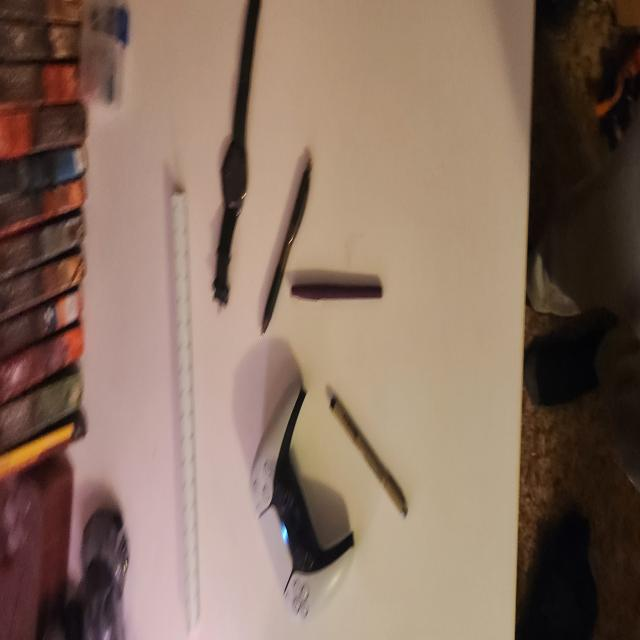Controller: (269, 386, 352, 578)
Pen: (257, 146, 385, 344)
Watch: (214, 0, 263, 306)
